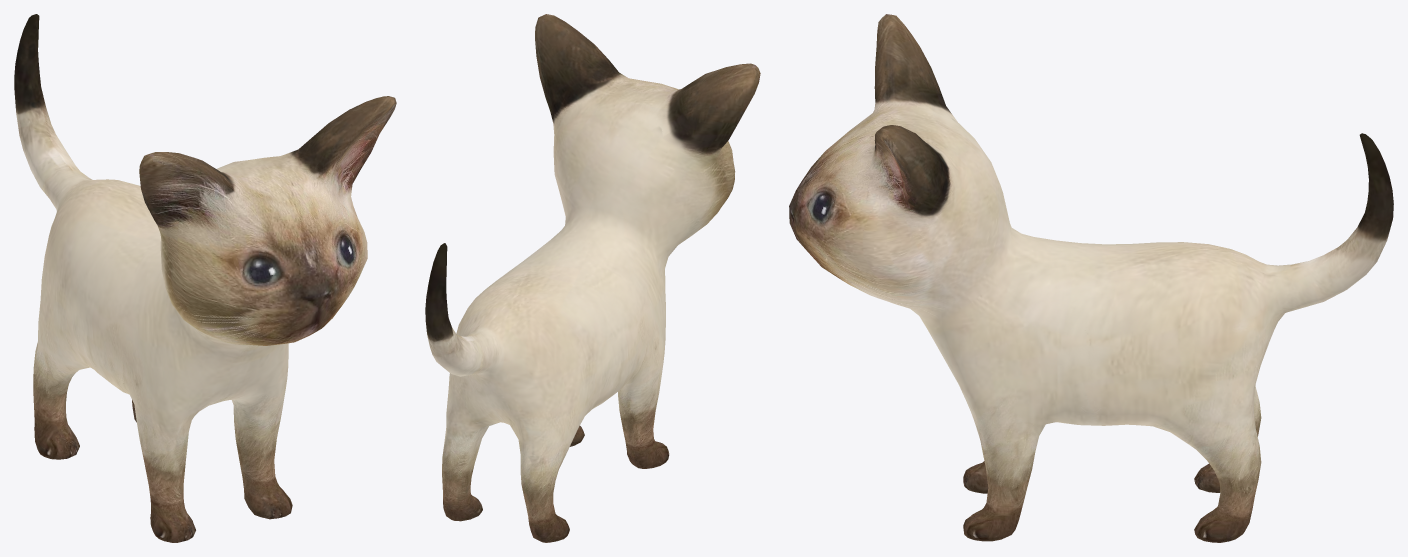
File: babuleh_cat.glb
3 renders of one model, left to right at view 1: azimuth 30°, elevation 25°; view 2: azimuth 150°, elevation 25°; view 3: azimuth 270°, elevation 25°, orthographic. The views are drawn at different scales.
Parts seen in each view (by area): view 1: babuleh_0; view 2: babuleh_0; view 3: babuleh_0.
Boxes of the visible parts, bbox=[...] form: babuleh_0: bbox=[14, 14, 396, 542]; babuleh_0: bbox=[425, 14, 760, 542]; babuleh_0: bbox=[789, 14, 1393, 542].
Size of the model in its own units: 1.69 by 2.78 by 3.47.
Materials: 1 (1 with a texture image).
